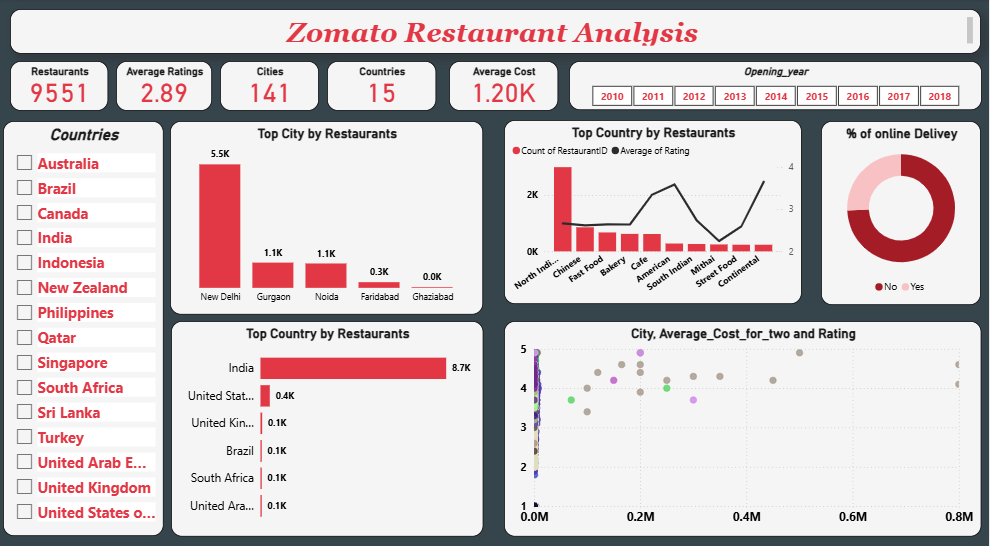

The dashboard page shown, as its layout file describes it:
{"tool":"powerbi","page":{"name":"Page 1","canvas":[1350,740],"ordinal":0},"visuals":[{"type":"textbox","box":[15,15,1324.4,61.4],"z":0},{"type":"card","title":"Restaurants ","fields":{"Values":["Count(Zomato_Data.RestaurantID)"]},"box":[15.1,86.1,134.4,68],"z":1000},{"type":"card","title":"Cities","fields":{"Values":["Count(Zomato_Data.City)"]},"box":[301.7,86,135.2,68.3],"z":2000},{"type":"card","title":"Countries","fields":{"Values":["Count(Zomato_Data.Country_Name)"]},"box":[447.8,86,148.8,68.3],"z":3000},{"type":"card","title":"Average Ratings","fields":{"Values":["Avg(Zomato_Data.Rating)"]},"box":[159.7,86,131.1,68.3],"z":4000},{"type":"card","title":"Average Cost","fields":{"Values":["Avg(Zomato_Data.Average_Cost_for_two)"]},"box":[613,86,148.8,68.3],"z":5000},{"type":"slicer","title":"Opening_year","fields":{"Values":["Zomato_Data.Year_Opening"]},"box":[776.9,86,562.5,66.9],"z":6000},{"type":"slicer","title":"Countries","fields":{"Values":["Zomato_Data.Country_Name"]},"box":[6,167.6,219,566.3],"z":7000},{"type":"barChart","title":"Top Country by Restaurants ","fields":{"Category":["Zomato_Data.Country_Name"],"Y":["Count(Zomato_Data.RestaurantID)"]},"box":[234.8,441,426,293.5],"z":8000},{"type":"columnChart","title":"Top City by Restaurants ","fields":{"Category":["Zomato_Data.City"],"Y":["Count(Zomato_Data.RestaurantID)"]},"box":[233.5,167.9,427.3,263.5],"z":9000},{"type":"lineStackedColumnComboChart","title":"Top Country by Restaurants ","fields":{"Y":["Count(Zomato_Data.RestaurantID)"],"Category":["Zomato_Data.Cuisines 1"],"Y2":["Avg(Zomato_Data.Rating)"]},"box":[688.1,166.9,406.5,251.1],"z":10000},{"type":"donutChart","title":"% of online Delivey","fields":{"Y":["Count(Zomato_Data.RestaurantID)"],"Category":["Zomato_Data.Has_Online_delivery"]},"box":[1120.9,167.9,218.5,251.2],"z":11000},{"type":"scatterChart","fields":{"Y":["Zomato_Data.Rating"],"X":["Zomato_Data.Average_Cost_for_two"],"Series":["Zomato_Data.City"]},"box":[688.1,441,651.3,293.5],"z":12000}]}

Visuals, with their boxes in screenshot pixels (x1, y1, x2, y2), scaled from the page's 1350x740 canvas onto the 990x546 screenshot:
textbox: (11, 11, 982, 56)
"Restaurants " card: (11, 64, 110, 114)
"Cities" card: (221, 63, 320, 114)
"Countries" card: (328, 63, 438, 114)
"Average Ratings" card: (117, 63, 213, 114)
"Average Cost" card: (450, 63, 559, 114)
"Opening_year" slicer: (570, 63, 982, 113)
"Countries" slicer: (4, 124, 165, 541)
"Top Country by Restaurants " barChart: (172, 325, 485, 542)
"Top City by Restaurants " columnChart: (171, 124, 485, 318)
"Top Country by Restaurants " lineStackedColumnComboChart: (505, 123, 803, 308)
"% of online Delivey" donutChart: (822, 124, 982, 309)
scatterChart - Zomato_Data.Rating x Zomato_Data.Average_Cost_for_two: (505, 325, 982, 542)
